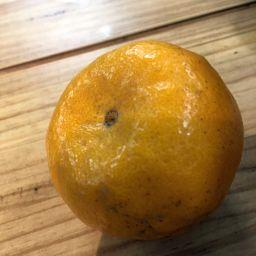Ripe: (47, 39, 243, 239)
